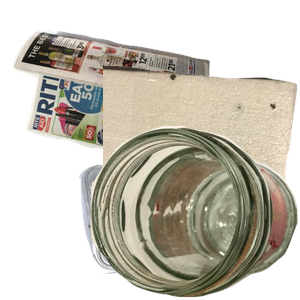glass: (90, 126, 300, 300)
paper: (11, 27, 213, 185)
plastic: (76, 151, 270, 300)
trash: (103, 62, 300, 242)
